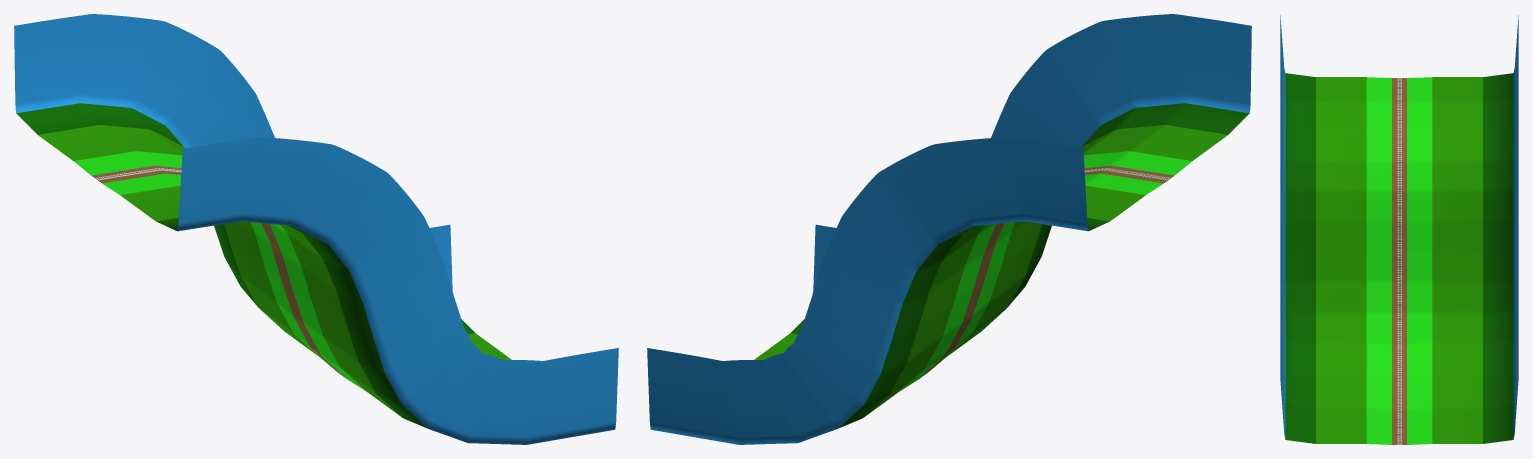
File: B_Drop_2Floor.fbx
3 renders of one model, left to right at view 1: azimuth 30°, elevation 25°; view 2: azimuth 150°, elevation 25°; view 3: azimuth 270°, elevation 25°, orthographic. The views are drawn at different scales.
Parts seen in each view (by area): view 1: Down-2.001; view 2: Down-2.001; view 3: Down-2.001.
Boxes of the visible parts, box(x1,y1,x2,y2) form: Down-2.001: box(14, 14, 618, 444); Down-2.001: box(647, 14, 1251, 444); Down-2.001: box(1280, 15, 1518, 444).
Size of the model in its own units: 15014 by 12995 by 10000.
